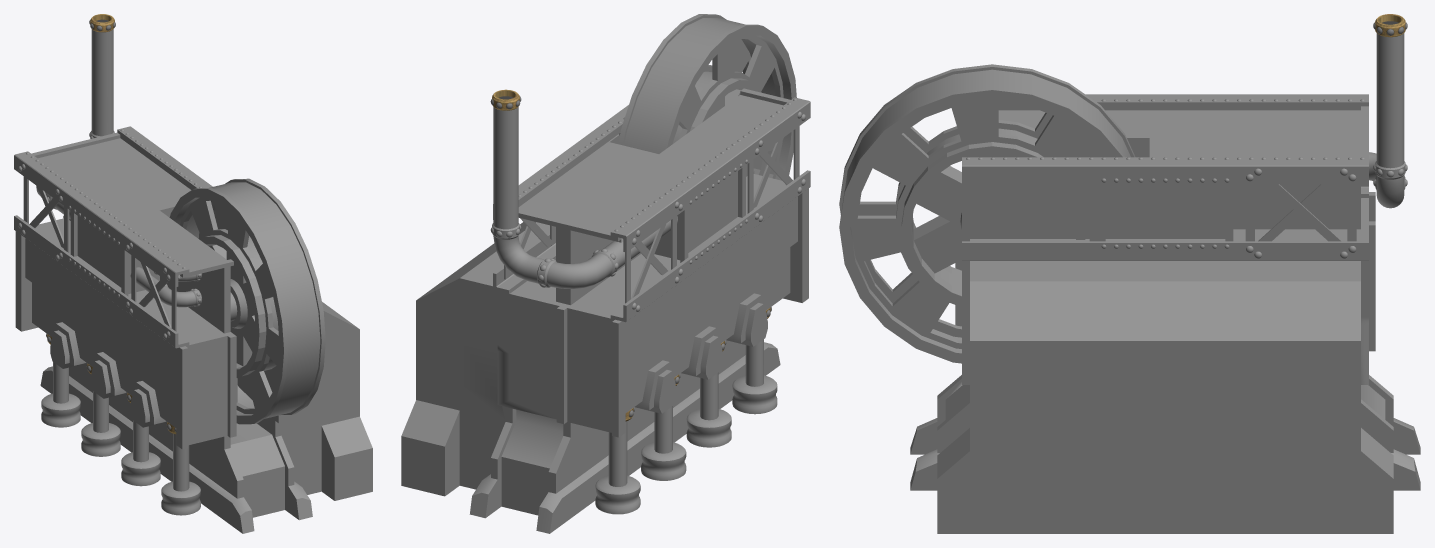
The model's file is maschine.FBX.
3 renders of one model, left to right at view 1: azimuth 30°, elevation 25°; view 2: azimuth 150°, elevation 25°; view 3: azimuth 270°, elevation 25°, orthographic. The views are drawn at different scales.
Visible parts, largest first — view 1: steelbeam_closed_3, Cylinder001, pipe_medium_oneside001, pipe_stamp_low, pipe_stamp_low006, pipe_stamp_low002, pipe_stamp_low004, pipe_90_oneside002; view 2: steelbeam_closed_3, Cylinder001, pipe_medium_oneside001, pipe_stamp_low006, pipe_stamp_low002, pipe_stamp_low004, pipe_stamp_low, pipe_90_oneside, pipe_90_oneside001, pipe_medium_oneside, pipe_cap_open004; view 3: steelbeam_closed_3, Cylinder001, pipe_medium_oneside001, pipe_90_oneside001.
Boxes of the visible parts, left/top/right/bottom form: steelbeam_closed_3: left=14, top=126, right=372, bottom=533; Cylinder001: left=169, top=178, right=325, bottom=424; pipe_medium_oneside001: left=91, top=29, right=113, bottom=136; pipe_stamp_low: left=161, top=433, right=200, bottom=515; pipe_stamp_low006: left=41, top=362, right=80, bottom=427; pipe_stamp_low002: left=121, top=420, right=160, bottom=486; pipe_stamp_low004: left=81, top=391, right=120, bottom=456; pipe_90_oneside002: left=158, top=286, right=201, bottom=307; steelbeam_closed_3: left=401, top=88, right=810, bottom=533; Cylinder001: left=618, top=14, right=796, bottom=180; pipe_medium_oneside001: left=493, top=107, right=518, bottom=229; pipe_stamp_low006: left=595, top=421, right=640, bottom=514; pipe_stamp_low002: left=686, top=372, right=731, bottom=447; pipe_stamp_low004: left=641, top=406, right=686, bottom=480; pipe_stamp_low: left=732, top=339, right=777, bottom=414; pipe_90_oneside: left=537, top=253, right=612, bottom=288; pipe_90_oneside001: left=490, top=223, right=544, bottom=283; pipe_medium_oneside: left=592, top=216, right=677, bottom=277; pipe_cap_open004: left=490, top=89, right=521, bottom=110; steelbeam_closed_3: left=910, top=94, right=1420, bottom=533; Cylinder001: left=839, top=64, right=1135, bottom=363; pipe_medium_oneside001: left=1376, top=33, right=1404, bottom=168; pipe_90_oneside001: left=1373, top=161, right=1407, bottom=208.
Size of the model in its own units: 609 by 1118 by 1285.
